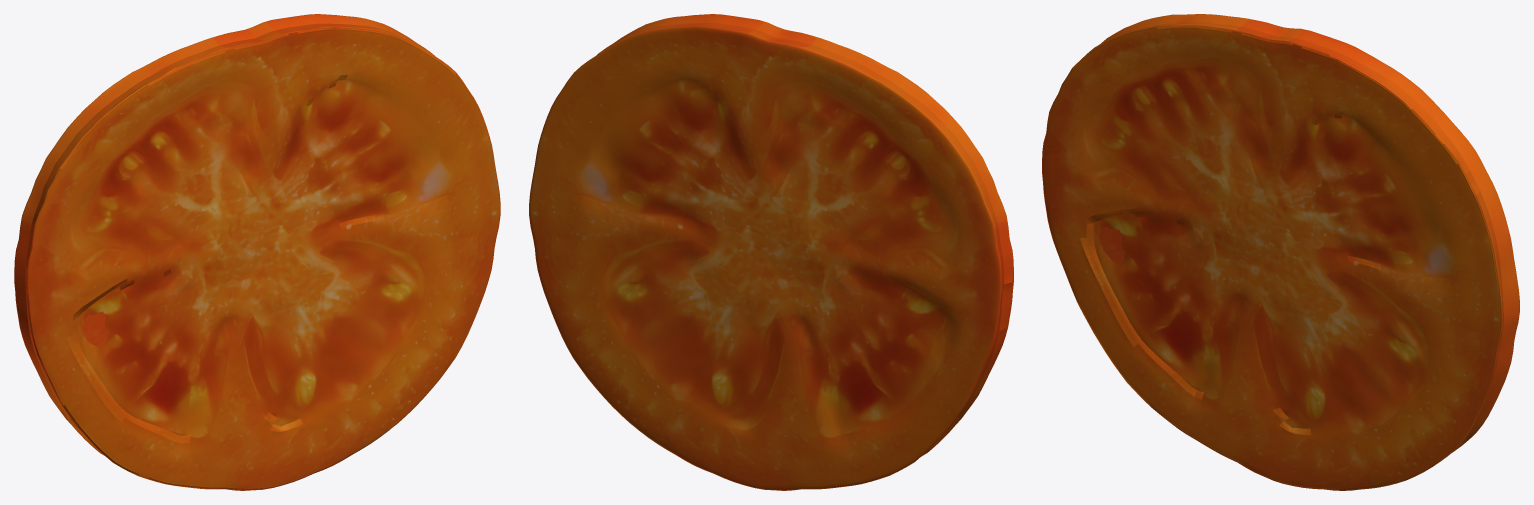
The model's file is 토마토슬라이스.glb.
3 views of the same model, side by side, from view 1: azimuth 30°, elevation 25°; view 2: azimuth 150°, elevation 25°; view 3: azimuth 330°, elevation 25° (orthographic).
Visible parts, largest first — view 1: tripo_node_5a346163; view 2: tripo_node_5a346163; view 3: tripo_node_5a346163.
Part boxes in pixels (x1,y1,x2,y2): tripo_node_5a346163: (14, 14, 500, 490); tripo_node_5a346163: (529, 14, 1013, 490); tripo_node_5a346163: (1042, 14, 1519, 490).
Size of the model in its own units: 0.9979 by 0.9189 by 0.07.
Materials: 2 (2 with a texture image).
